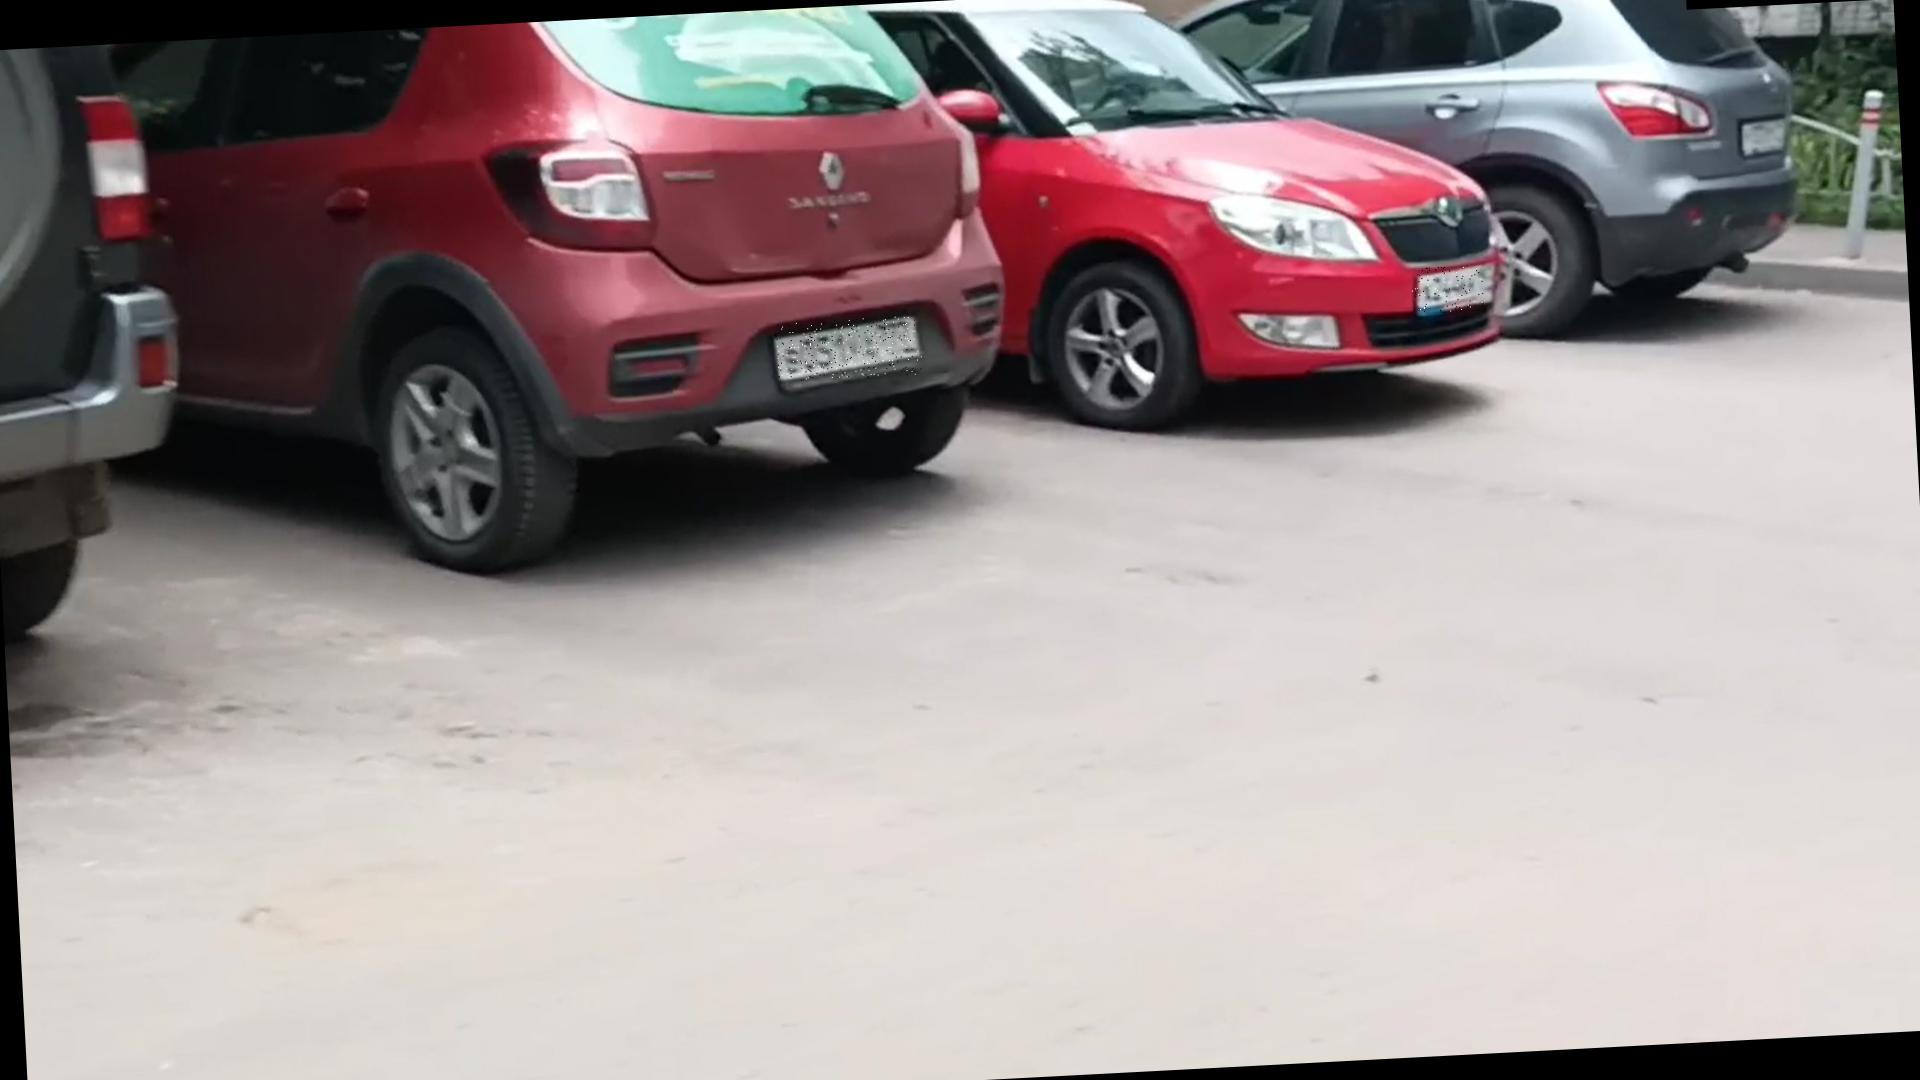plate: (777, 316, 924, 383), (1412, 266, 1486, 316)
